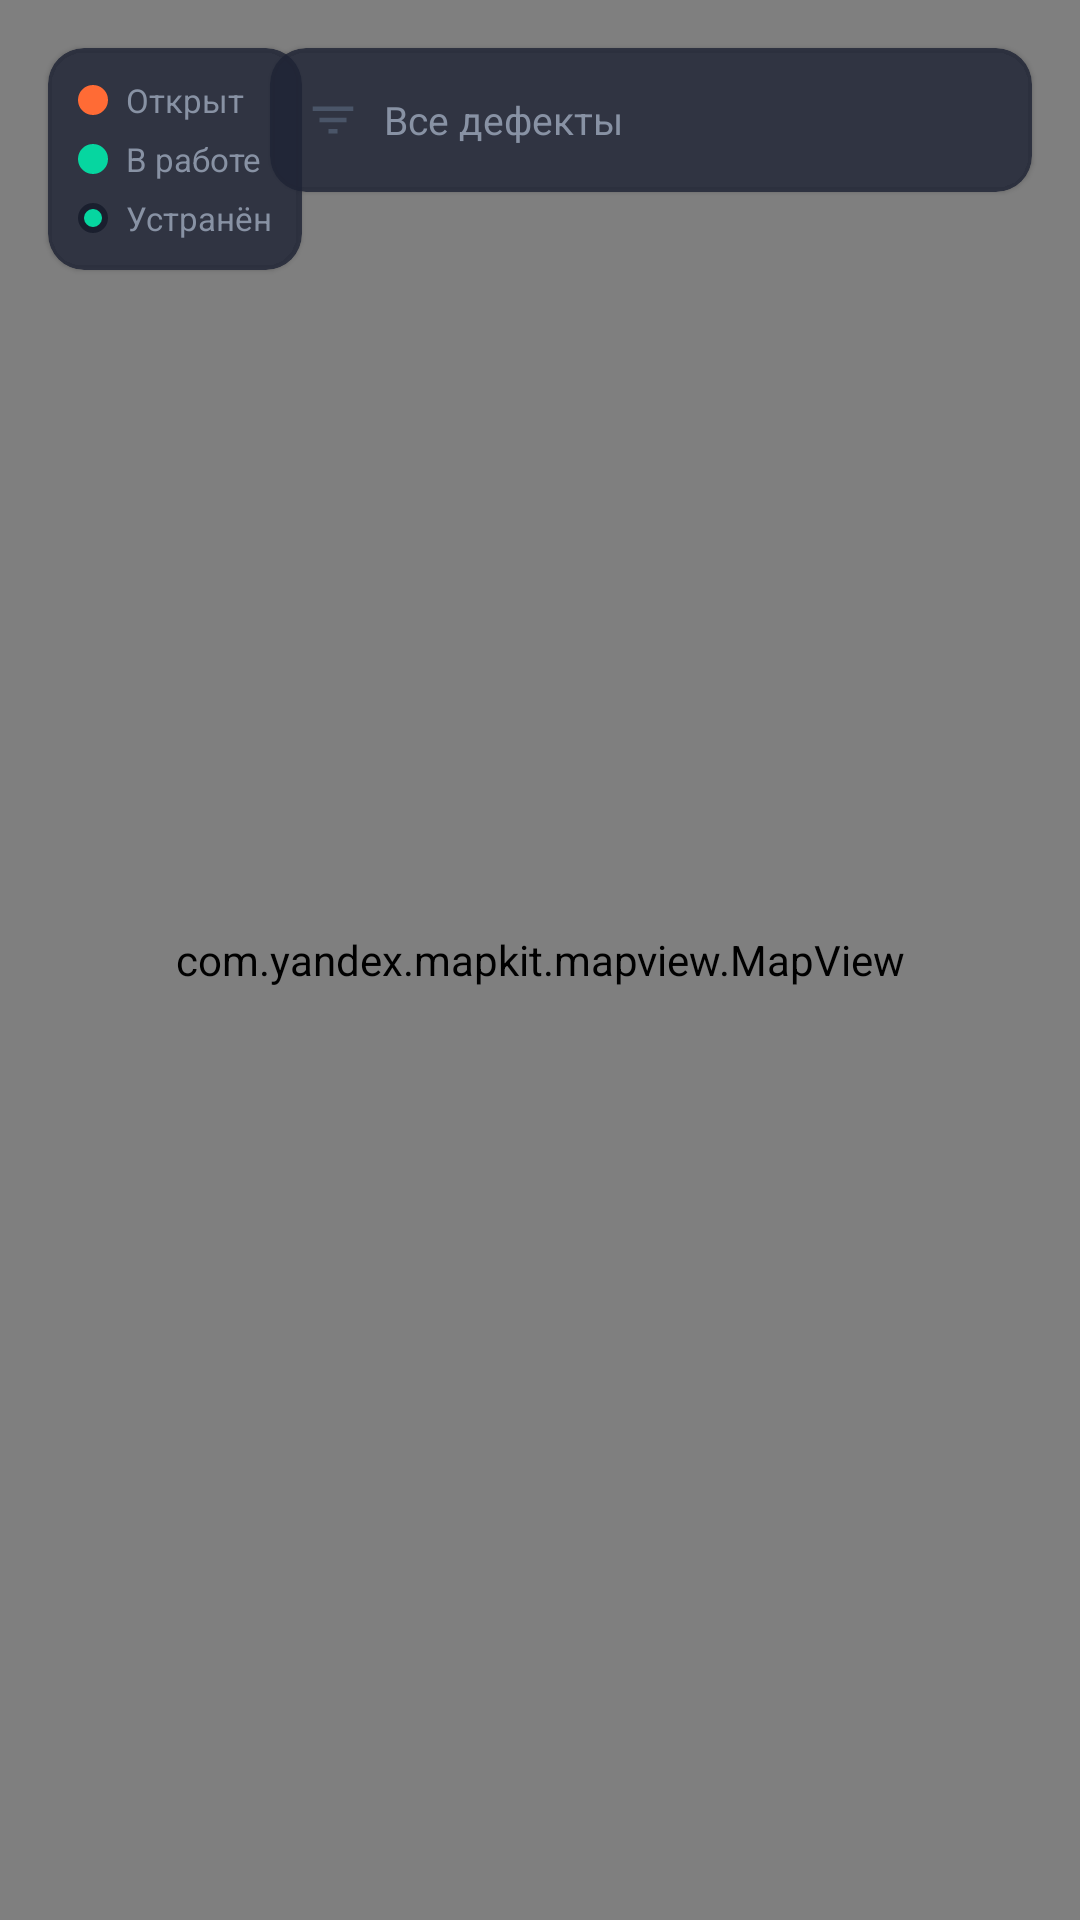

Where to tap for icons on this 1080 x 1920 app screen, as [x,y]:
filter: [333,120]
